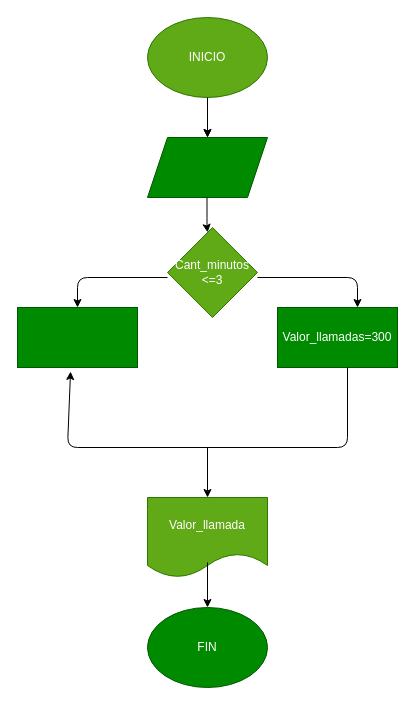
Some shapes in this 415 by 705 pixel diagram are drawn without their labels. Here are the shapes that lost their labels. From the top down, the centre of each, then its label:
At [207,167]: "cant_minutos".
At [77,337]: "Valor de llamadas= 300+50 (cant_minutos -3)".
